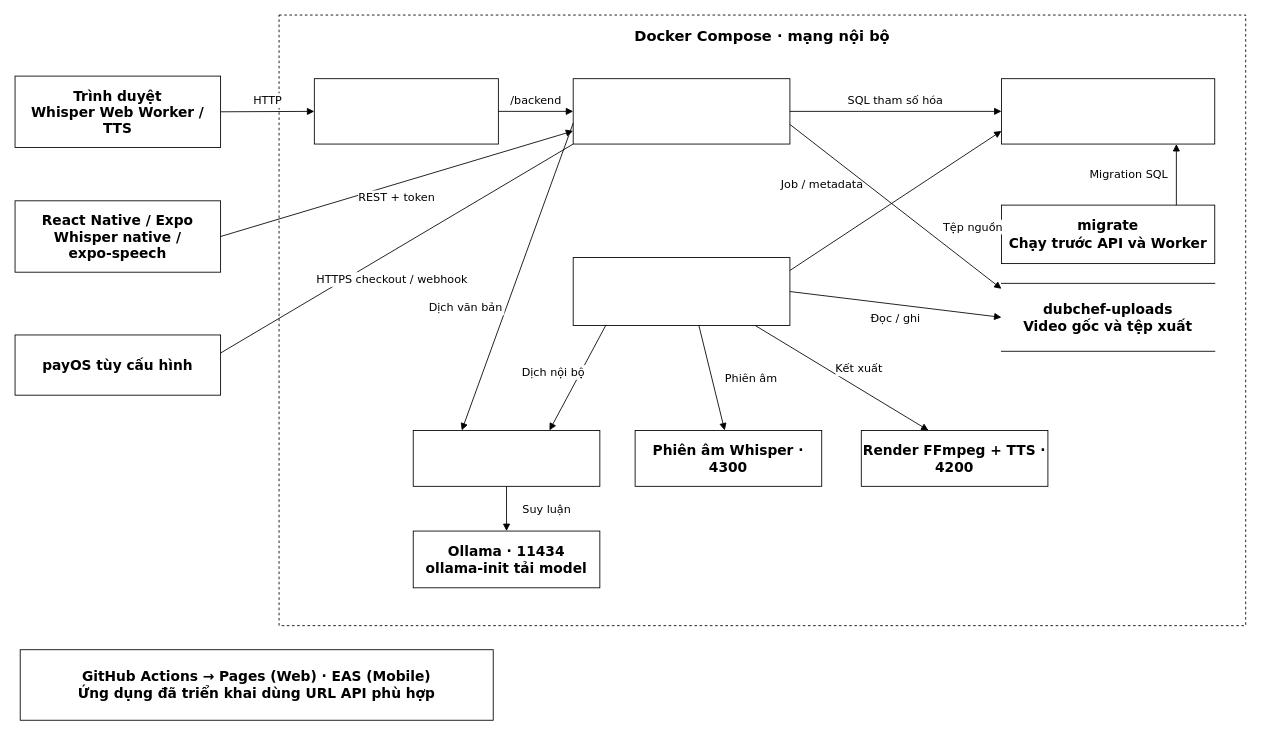
Some shapes in this 1261 by 735 pixel diagram are drawn without their labels. Here are the shapes that lost their labels. From the top down, the centre of each, then its label:
At [405,111]: "Nginx + React Web 5173 → 80".
At [681,111]: "Node.js / Express API 4000 → 3000".
At [1108,111]: "SQL Server · DubchefDB 1433 → 1433 · dubchef-data".
At [681,291]: "job-worker Lấy việc và cập nhật tiến độ".
At [506,458]: "Dịch · 4100".
